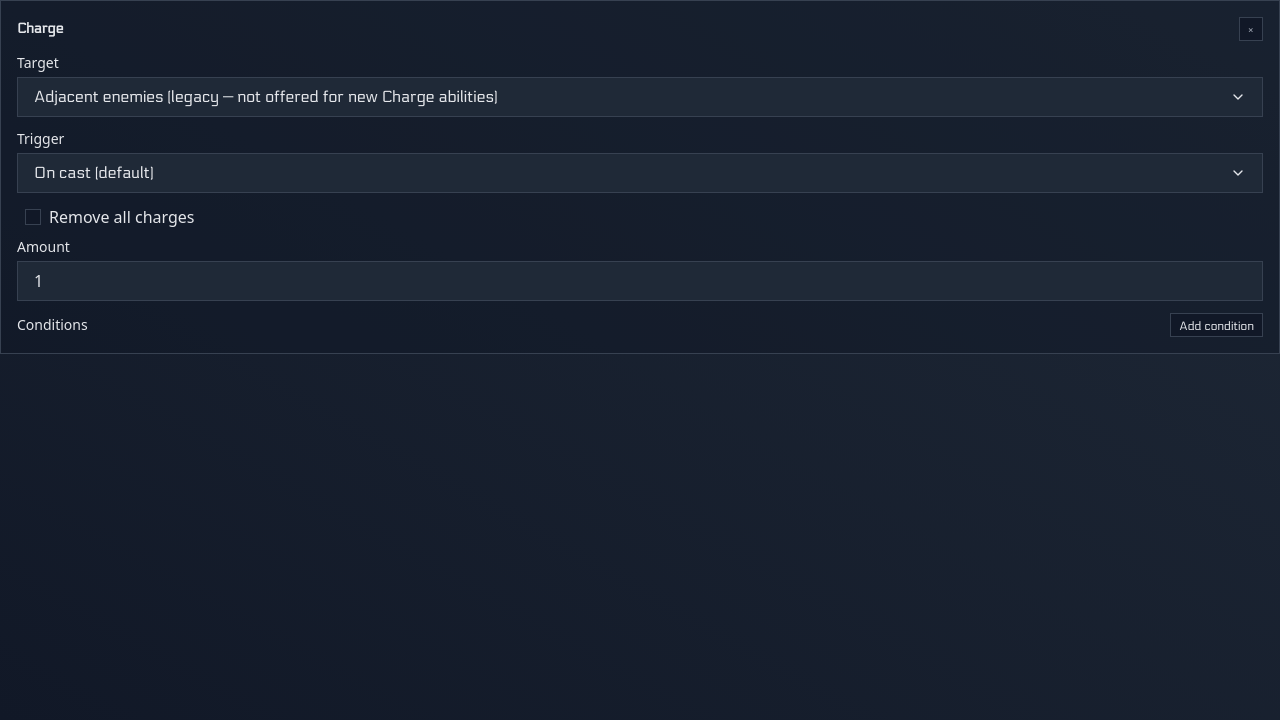
Test: AbilityCard › Target select for charge abilities (#399 Change 1a) › keeps an already-saved legacy target visible, labelled, and selectable
Check: the text "Adjacent enemies (legacy" is shown, box [34,87,498,106]
Click the label labelled "Target": (38, 62) [17,53,59,72]
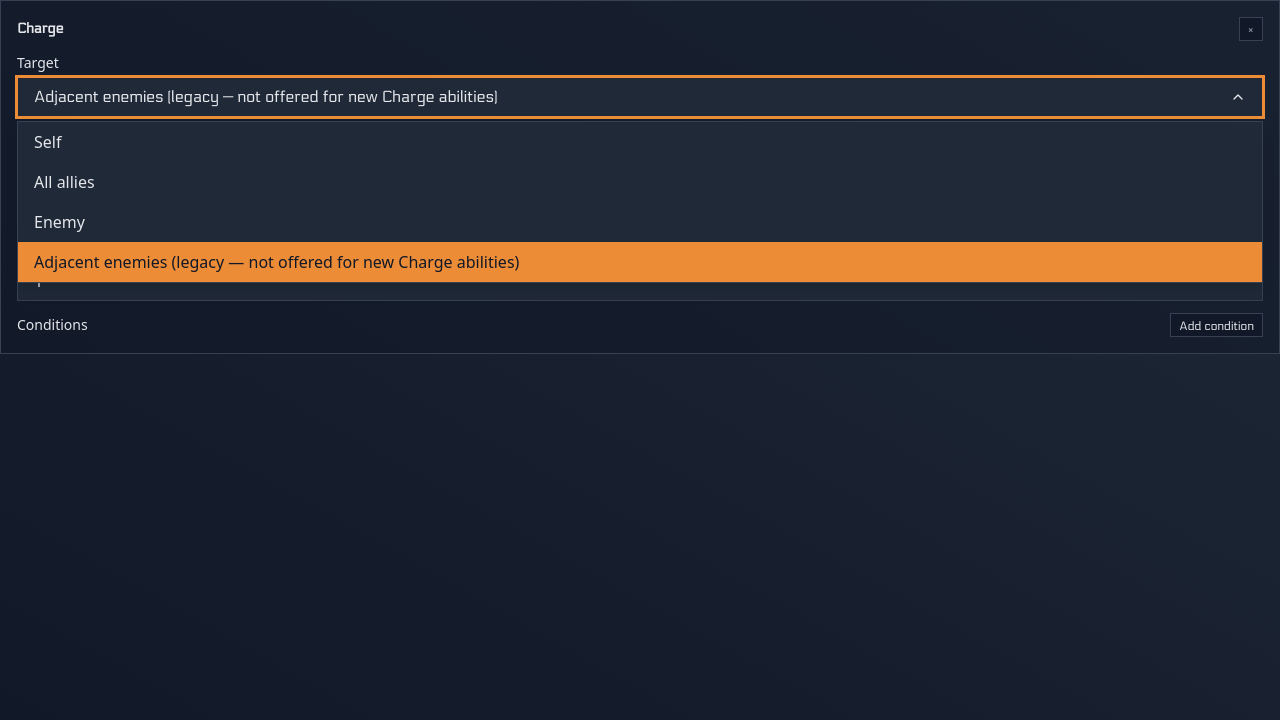
Check: the options read "Self", "All allies", "Enemy", "Adjacent enemies (legacy — not offered for new Charge abilities)", in this order, box [34,131,62,153]; [34,171,95,193]; [34,211,85,233]; [18,242,1262,282]
